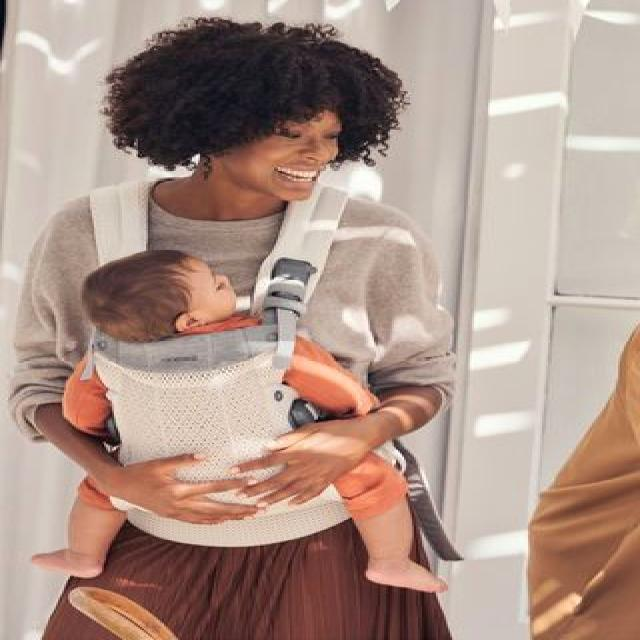adult: (10, 21, 456, 640)
child: (25, 247, 451, 595)
